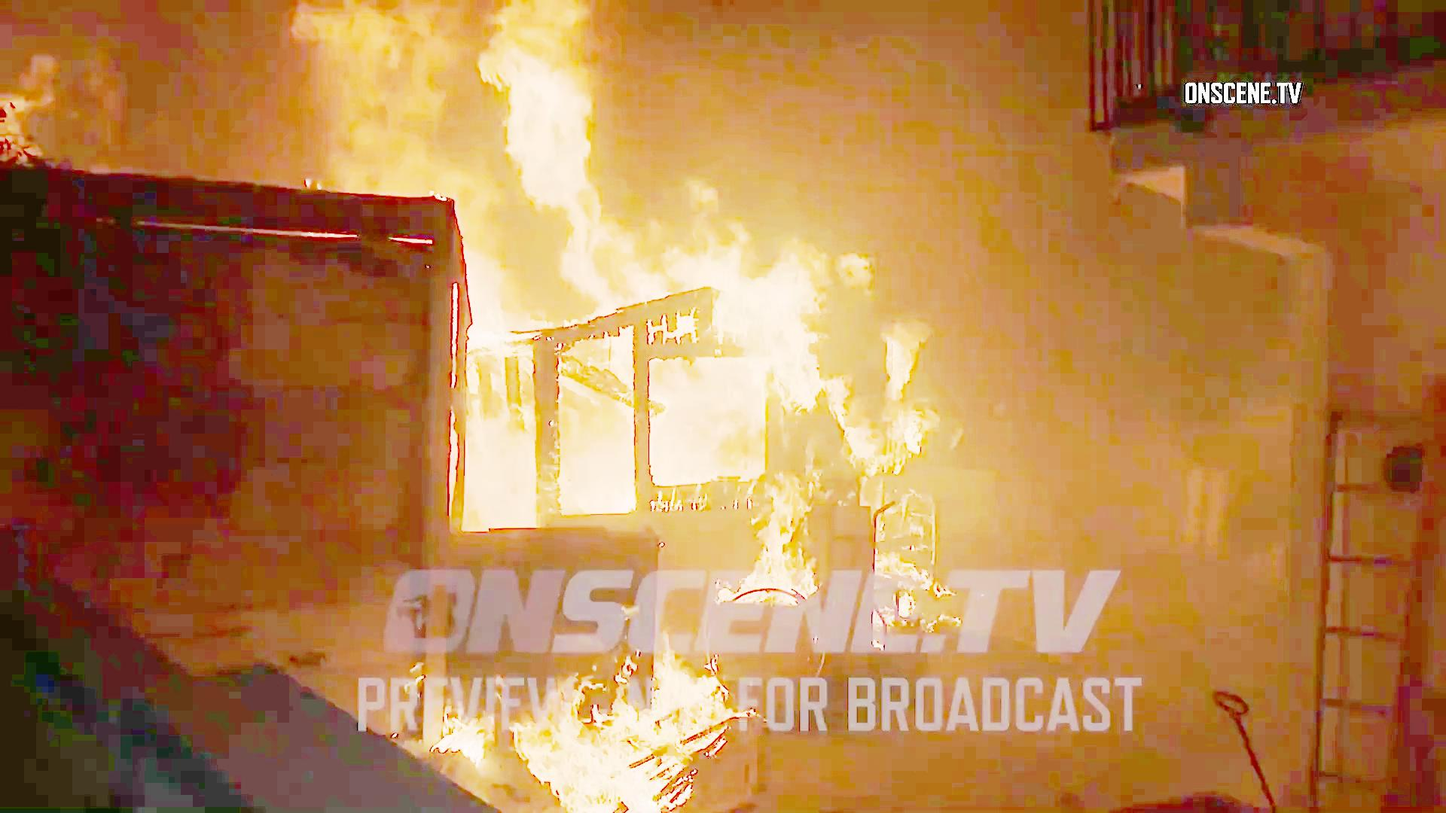fire: (450, 175, 913, 494), (326, 0, 597, 185), (507, 646, 740, 813)
